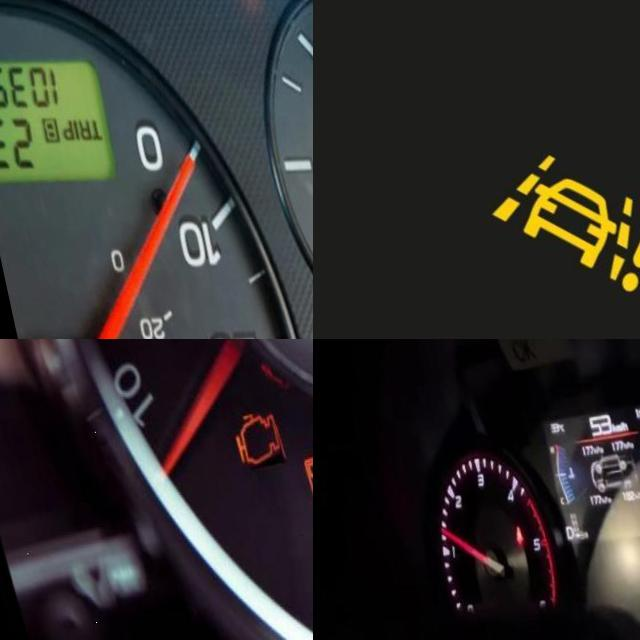Seat Belt: (499, 531, 511, 549)
